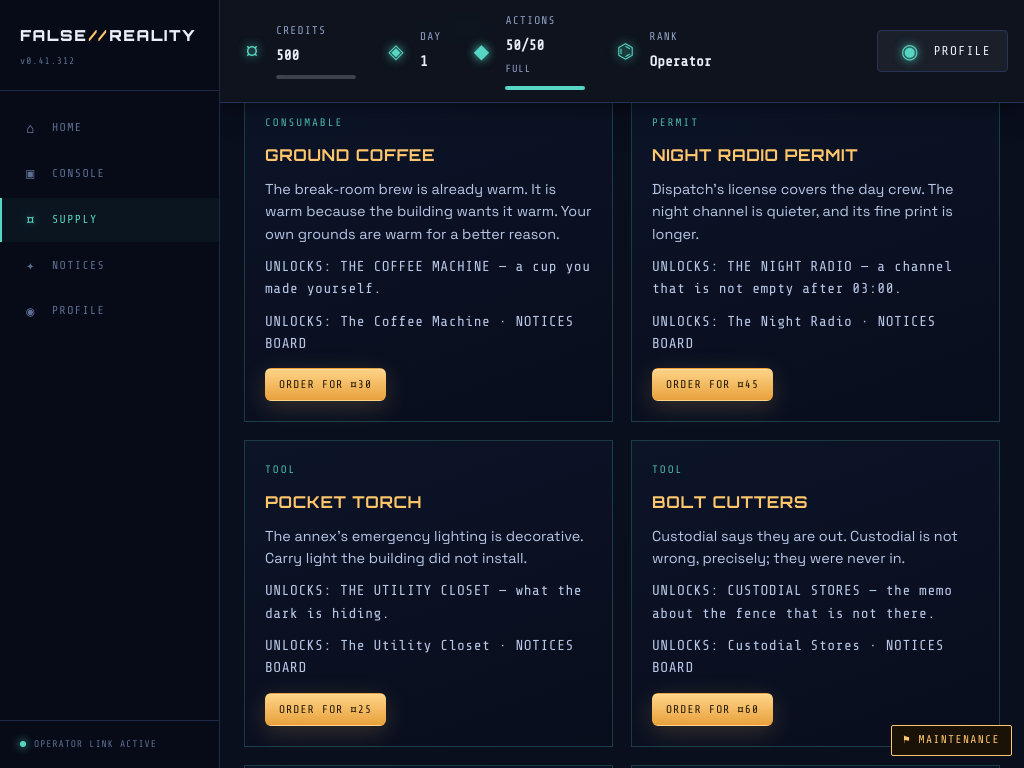
Test: municipal supply › marks an owned good as ordered and will not sell it twice
(page scrolled)
Click the button "ORDER FOR ¤30": point(326, 385) [265, 368, 386, 401]
Wait 50 ms
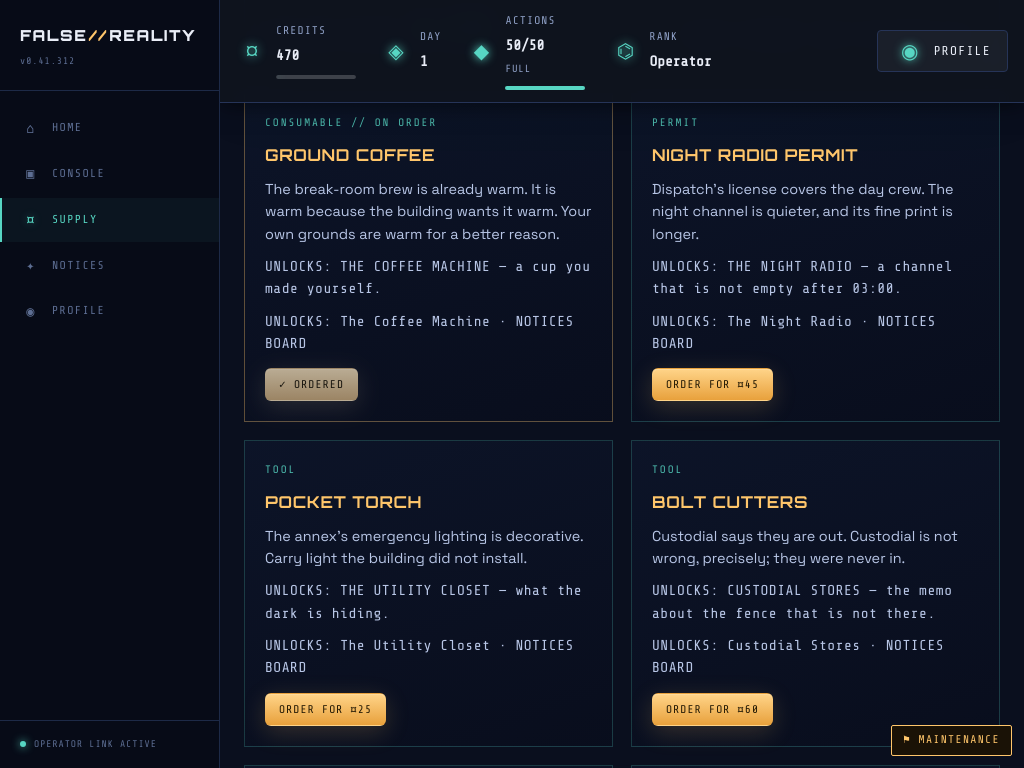
Check: the text "✓ ORDERED" is shown, box [265, 368, 358, 401]
